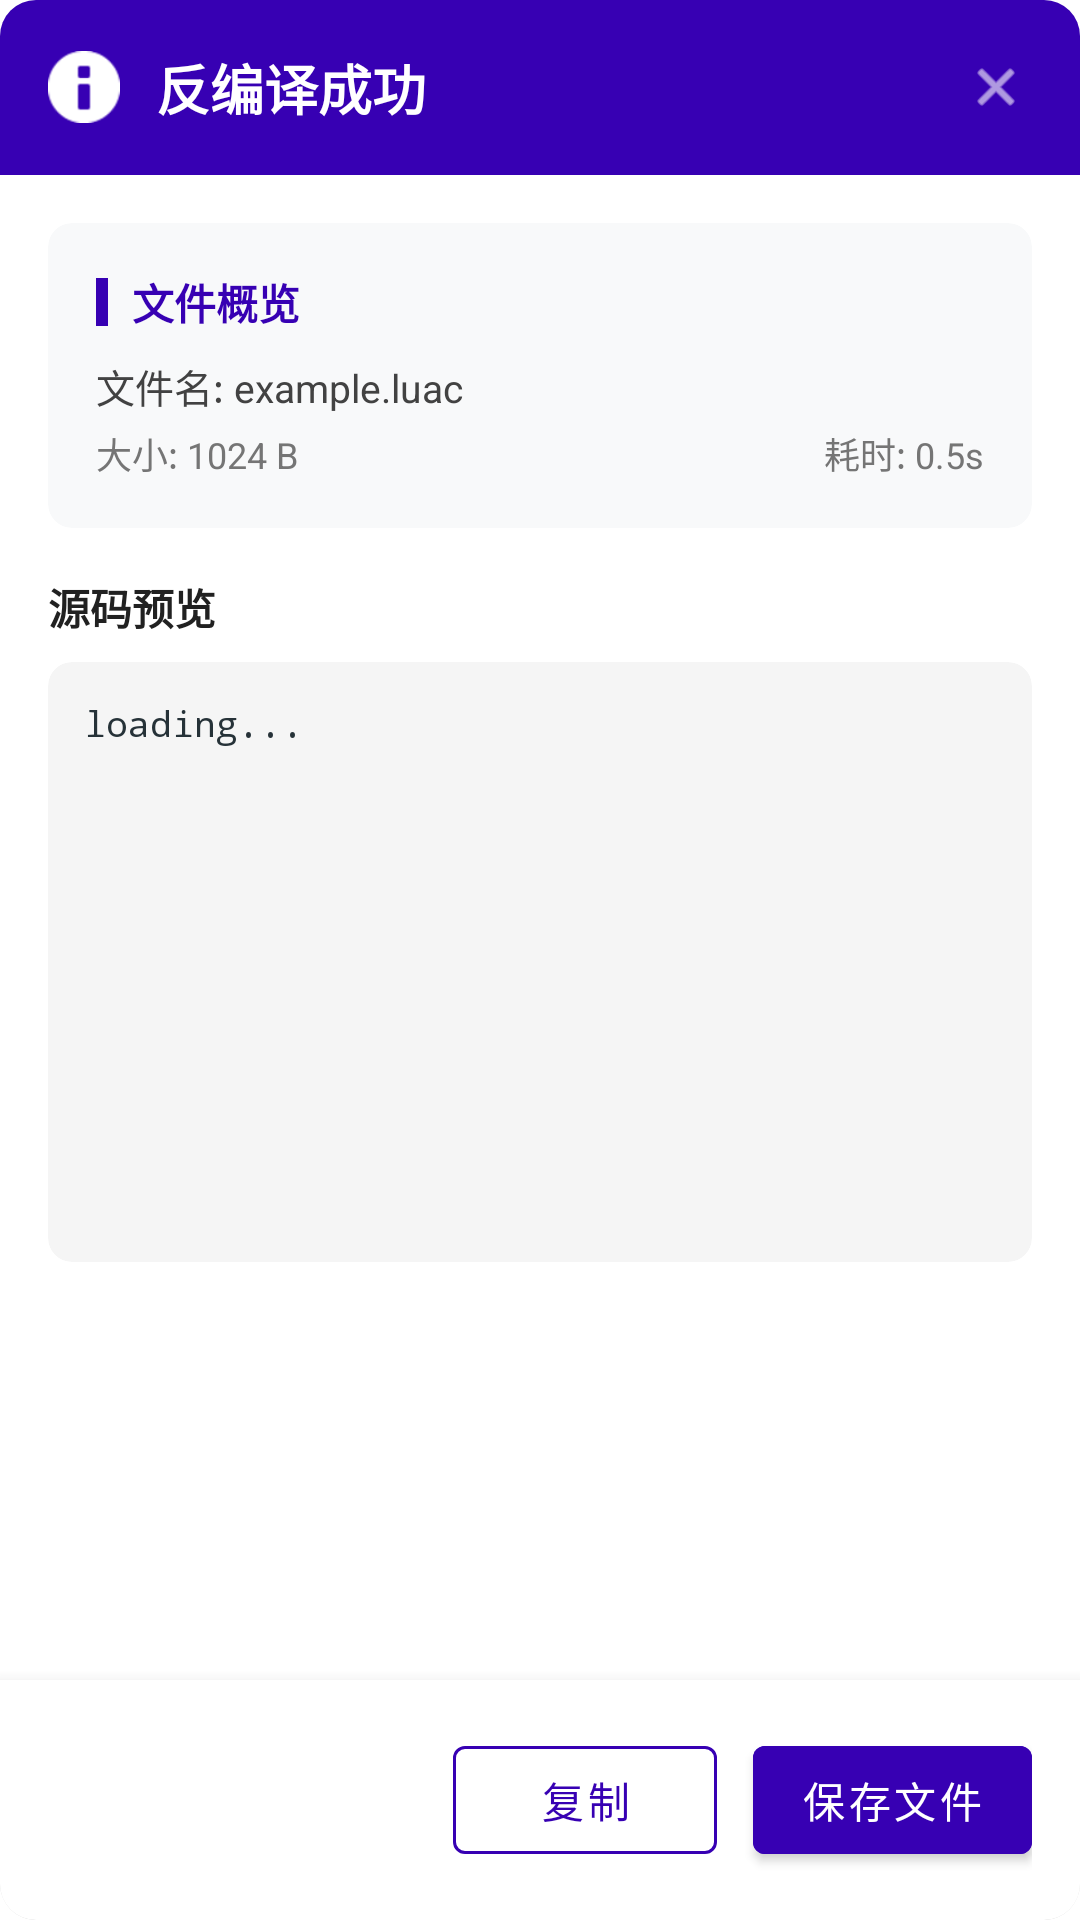

Icon bounding boxes for this 1080*1920 phone screenshot, format (x1, y1, x2, y2):
close clear cancel: (977, 68, 1015, 106)
info: (48, 51, 120, 123)
